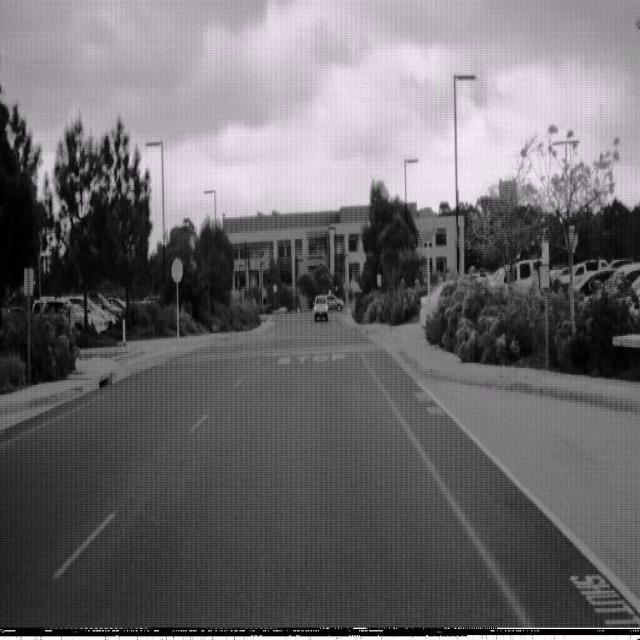stop_sign: (418, 205, 437, 244)
